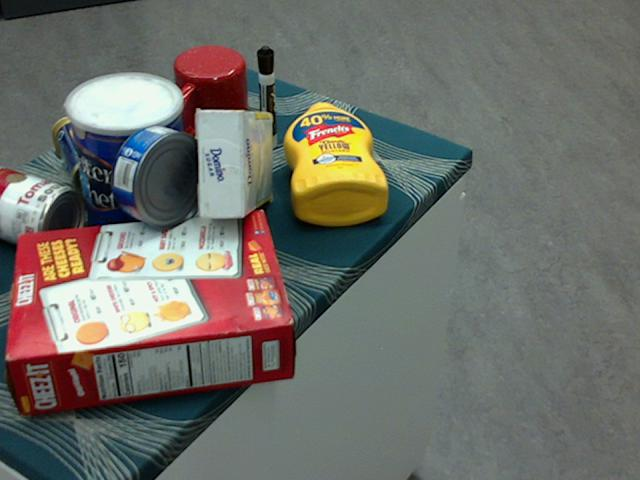cracker_box: (8, 209, 294, 413)
large_marker: (257, 45, 275, 149)
master_chef_can: (66, 74, 189, 256)
mug: (170, 46, 253, 144)
mustard_bottle: (283, 101, 389, 225)
potted_meat_can: (52, 105, 167, 198)
sugar_box: (198, 110, 270, 219)
tomato_soup_can: (0, 163, 84, 255)
tuna_fish_can: (111, 124, 208, 227)
